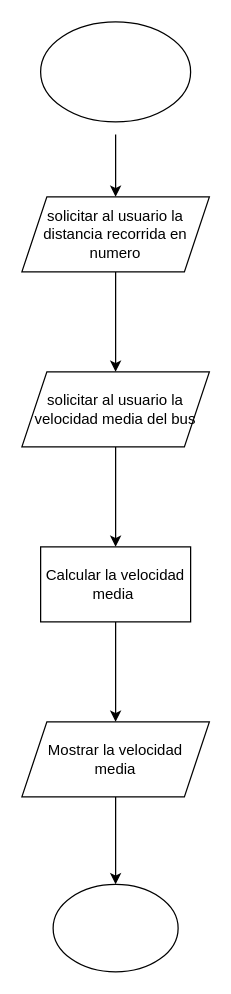
Image size: 231x994. Some labels were removed from this diagram. Each missing label, with the centre of its shape:
"Fin" goes at (x=115, y=927).
"Inicio" goes at (x=115, y=71).
